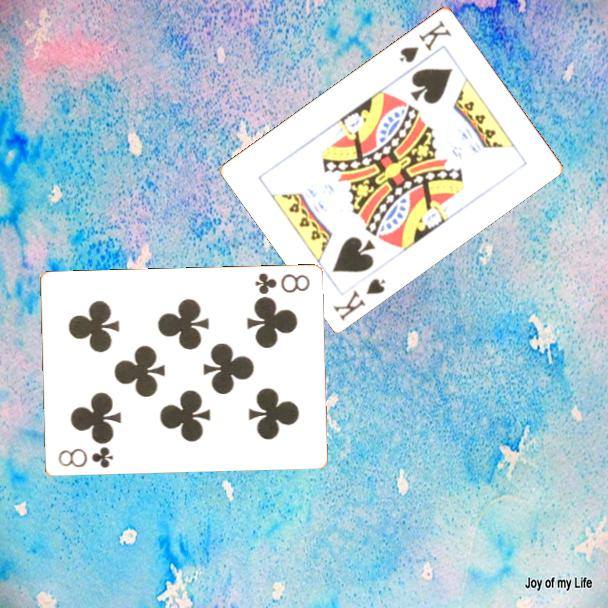c08: (55, 443, 115, 471), (252, 269, 312, 297)
s13: (329, 274, 388, 324), (396, 16, 454, 65)
